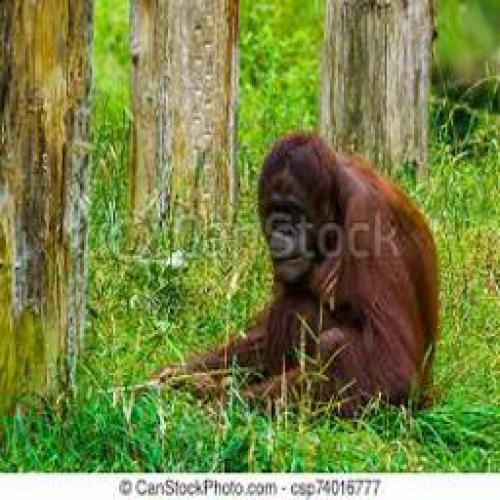orangutan-endangered: (133, 131, 438, 420)
